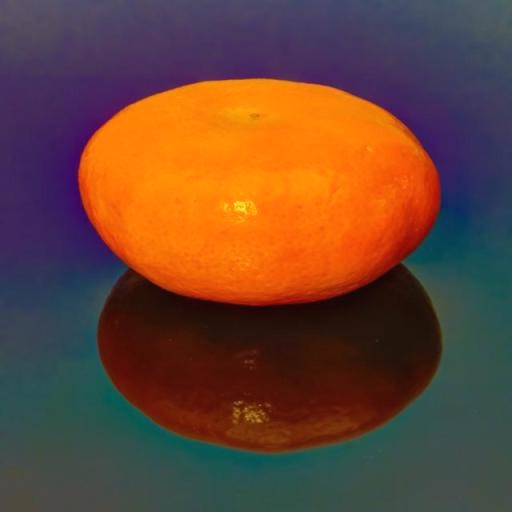fruit: (79, 80, 439, 304), (97, 266, 439, 452)
